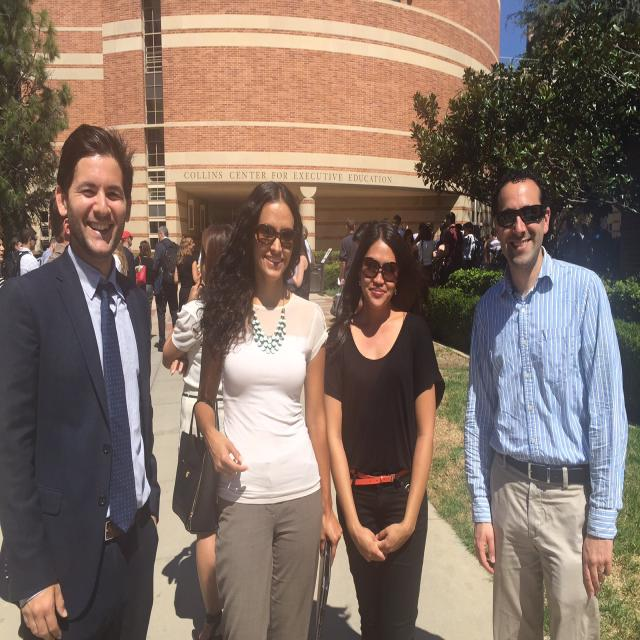body: (0, 115, 168, 639), (164, 184, 343, 639), (460, 161, 630, 639), (0, 186, 640, 298), (314, 214, 449, 639), (160, 221, 237, 640), (151, 224, 182, 352), (329, 217, 361, 317), (173, 234, 203, 314), (134, 239, 154, 341), (118, 230, 138, 285)
